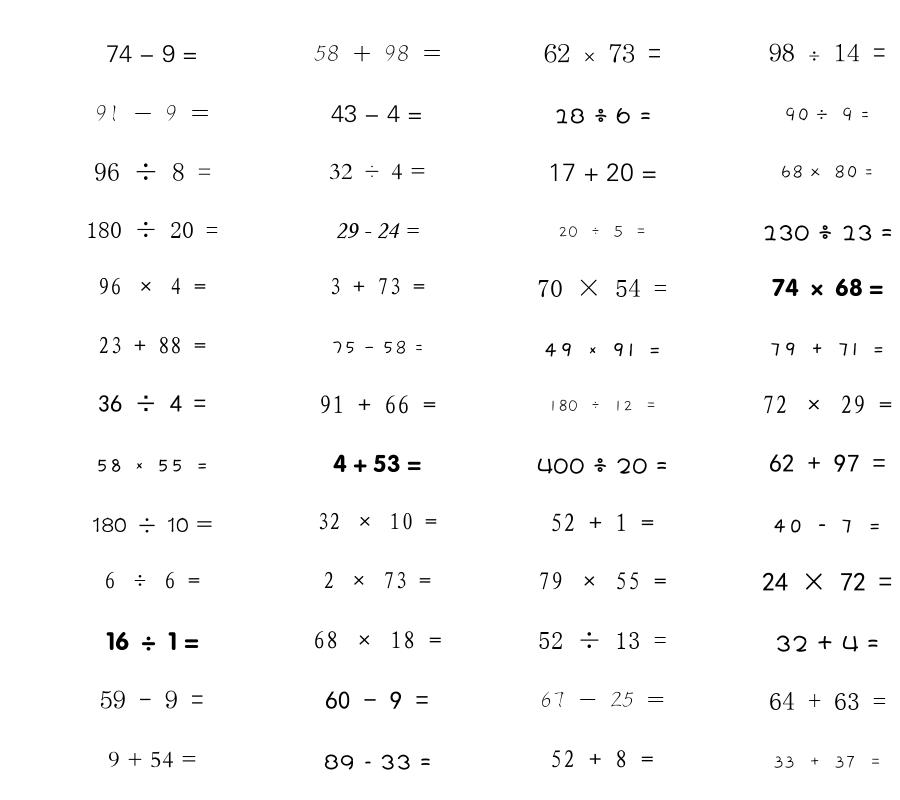MQ: (762, 395, 892, 414), (762, 572, 892, 591), (544, 43, 661, 63), (537, 279, 667, 297), (538, 572, 667, 590), (313, 631, 442, 649), (538, 631, 667, 649), (86, 221, 218, 238), (769, 43, 886, 62), (319, 395, 436, 414), (317, 512, 437, 530), (314, 45, 441, 62), (540, 691, 665, 708), (772, 278, 883, 297), (94, 163, 211, 181), (769, 454, 886, 472), (769, 692, 886, 710), (762, 225, 893, 241), (537, 458, 668, 474), (548, 163, 657, 182), (550, 513, 654, 532), (100, 690, 204, 709), (325, 691, 429, 710), (98, 277, 206, 295), (98, 336, 206, 354), (323, 571, 431, 589), (95, 105, 209, 122), (92, 517, 213, 533), (550, 750, 654, 768), (106, 631, 199, 651), (98, 395, 206, 412), (775, 635, 879, 652), (329, 277, 425, 295), (104, 571, 200, 589), (324, 754, 431, 770), (333, 454, 421, 473), (543, 343, 662, 357), (106, 45, 198, 63), (331, 105, 423, 123), (554, 107, 651, 124), (329, 163, 426, 180), (769, 342, 885, 356), (772, 519, 882, 533), (108, 751, 197, 768), (95, 459, 209, 472), (335, 222, 419, 239), (548, 399, 657, 412), (773, 756, 882, 769), (331, 340, 424, 355), (780, 165, 874, 179), (784, 107, 870, 122), (558, 225, 647, 238)
